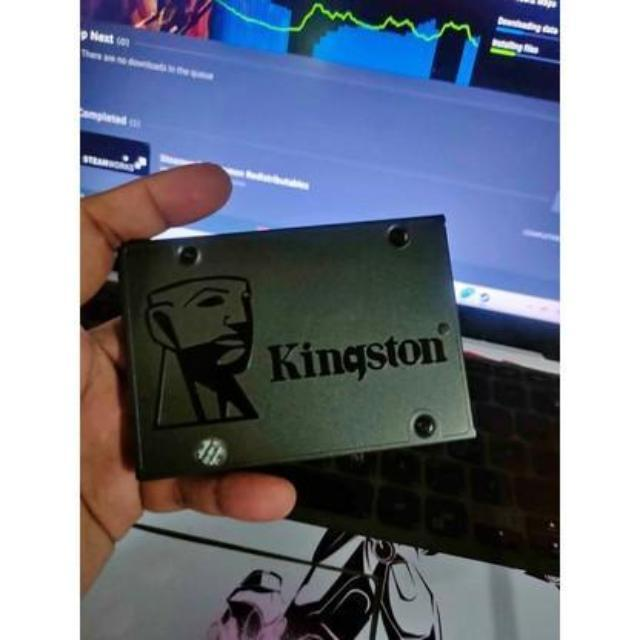DISK: (113, 222, 482, 486)
